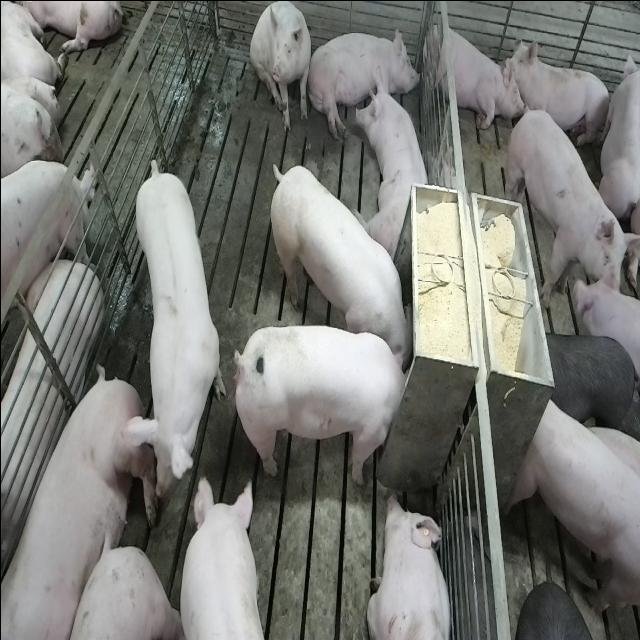Feeding: (264, 160, 412, 370), (228, 322, 408, 484)
Lateral_lying: (4, 368, 163, 640), (0, 257, 103, 603), (306, 24, 420, 140)
Sitting: (249, 2, 312, 134)
Standing: (130, 154, 221, 500), (508, 394, 638, 616), (502, 110, 630, 312), (0, 162, 94, 348), (173, 474, 263, 640), (543, 326, 637, 443)
Sternal_lying: (354, 71, 433, 259), (366, 489, 452, 640), (506, 35, 610, 150), (424, 15, 516, 133)
